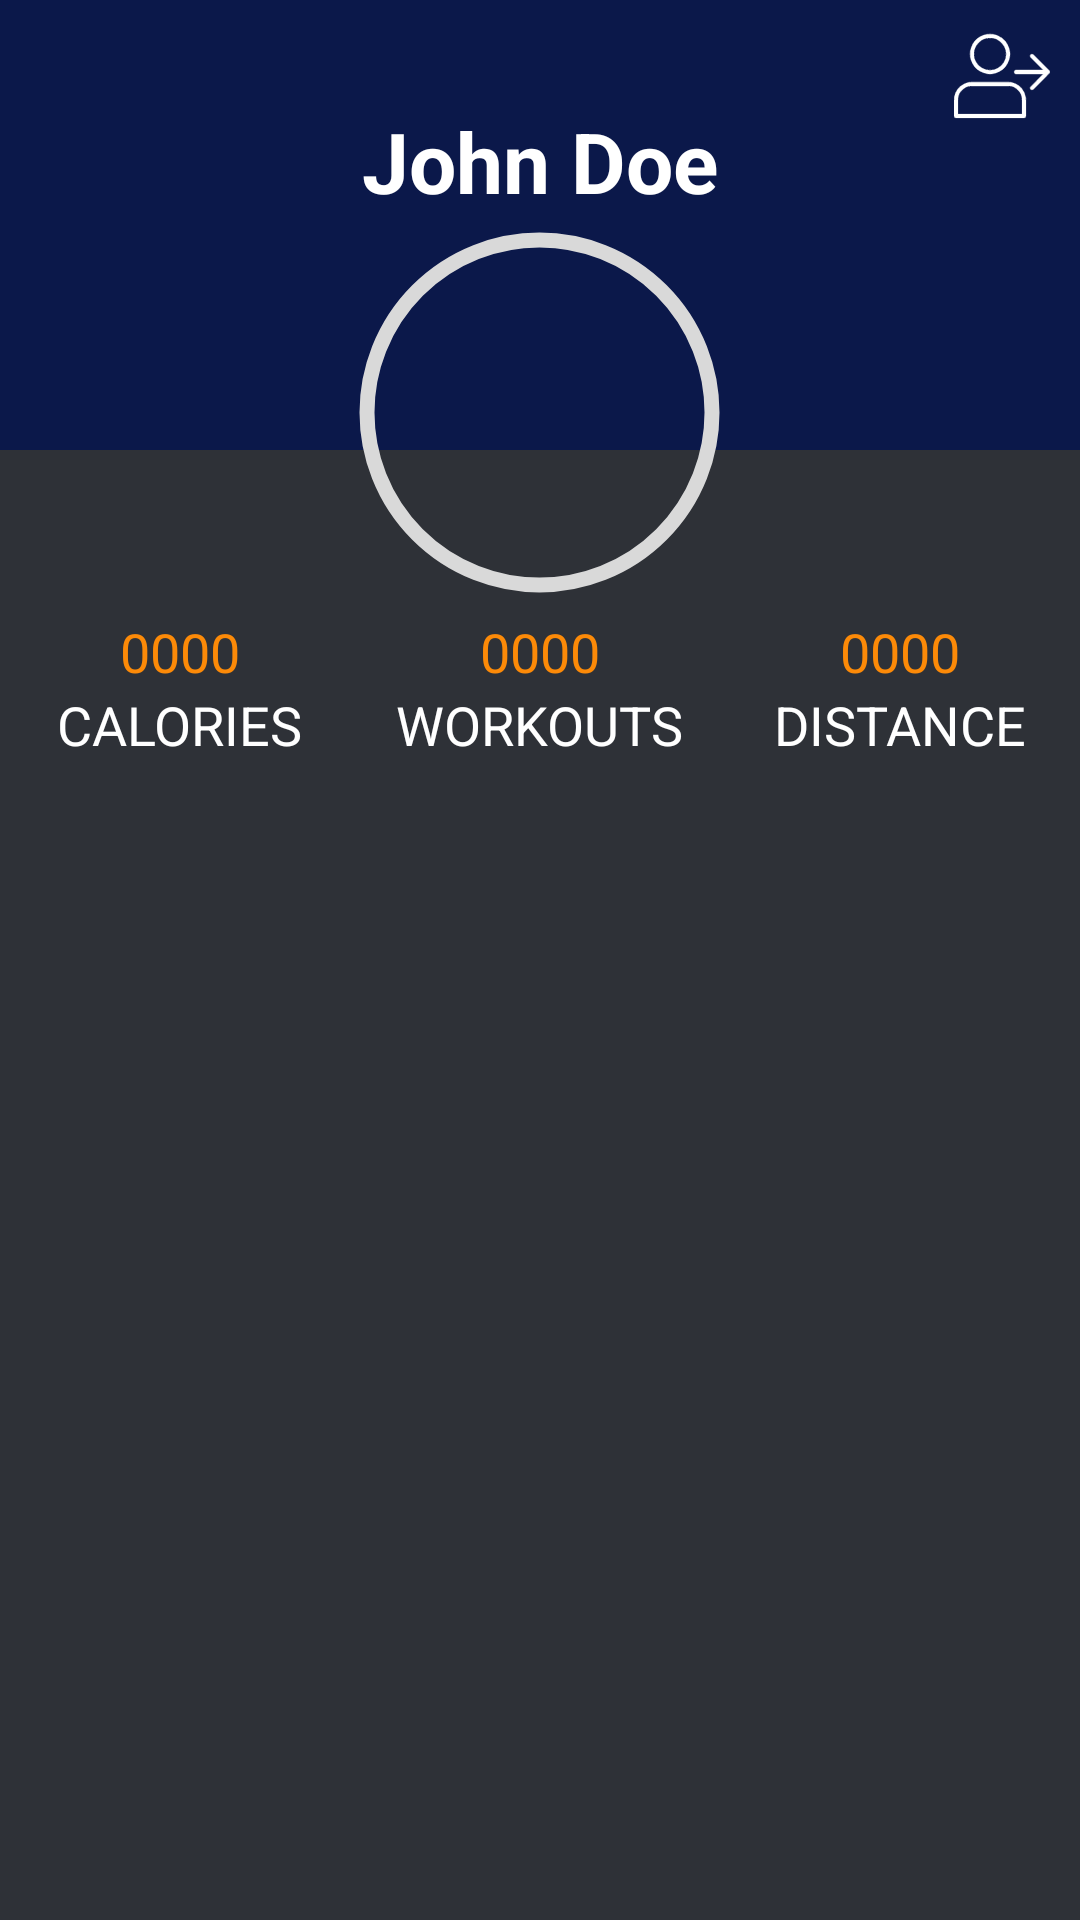

Named icons in this screenshot (1080px×1920px) and their bounding boxes, [x1,y1,x2,y2]:
signout: [954,33,1050,118]
